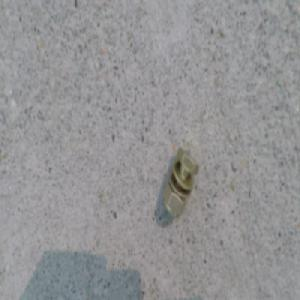BoltNutSet: (164, 145, 202, 217)
